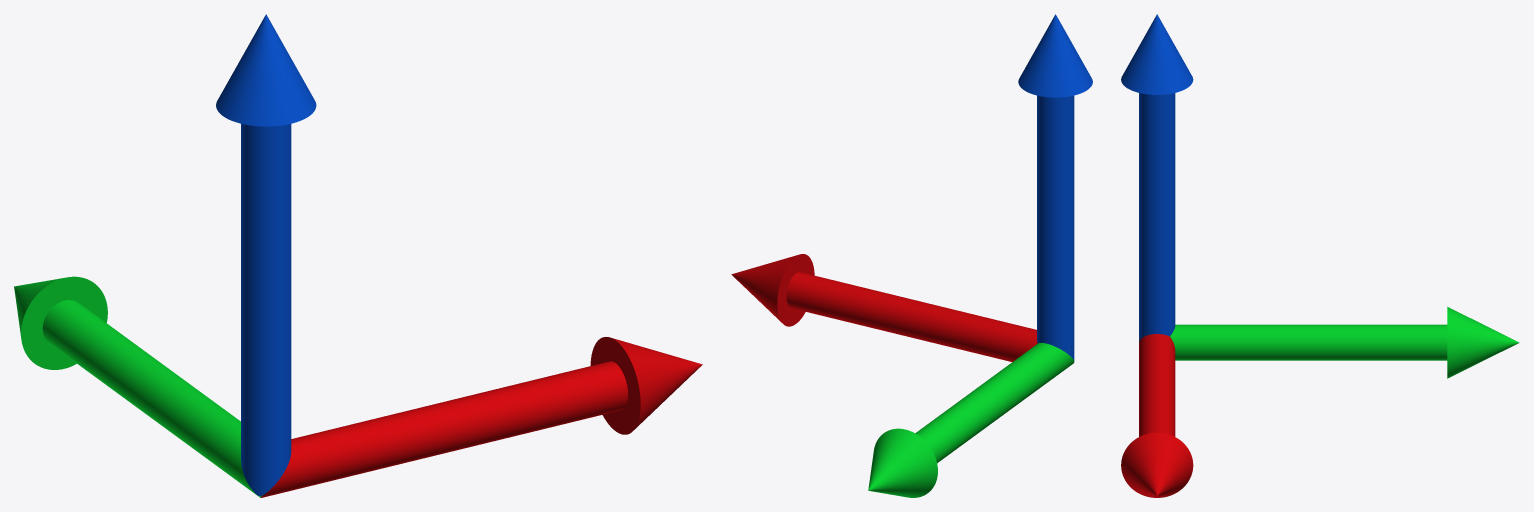
The model's file is PivotGizmo.fbx.
The picture shows the model from 3 angles, left to right: view 1: azimuth 30°, elevation 25°; view 2: azimuth 150°, elevation 25°; view 3: azimuth 270°, elevation 25°; orthographic projection. The views are drawn at different scales.
Parts seen in each view (by area): view 1: Arrows8; view 2: Arrows8; view 3: Arrows8.
Boxes of the visible parts, <box> form: Arrows8: <box>14,14,702,497</box>; Arrows8: <box>731,14,1092,497</box>; Arrows8: <box>1121,14,1519,497</box>.
Size of the model in its own units: 110 by 110 by 110.
